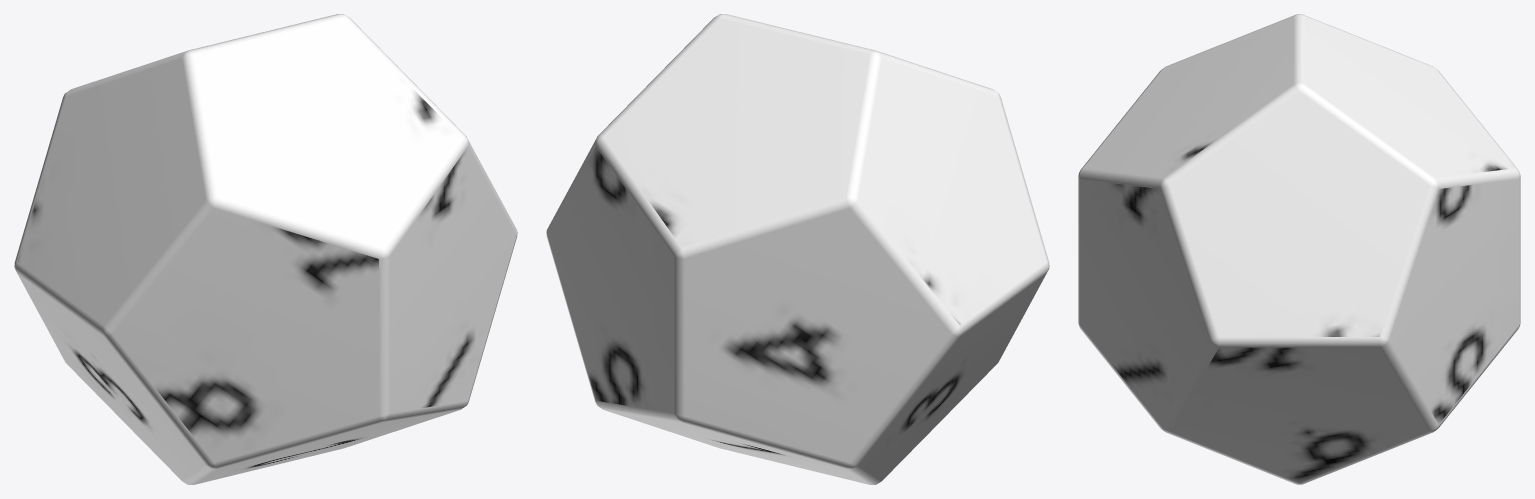
3 views of the same model, side by side, from view 1: azimuth 30°, elevation 25°; view 2: azimuth 150°, elevation 25°; view 3: azimuth 270°, elevation 25° (orthographic). The views are drawn at different scales.
Parts seen in each view (by area): view 1: D12; view 2: D12; view 3: D12.
Part boxes in pixels (x1,y1,x2,y2): D12: [14, 14, 517, 484]; D12: [546, 14, 1049, 484]; D12: [1078, 14, 1520, 484].
Size of the model in its own units: 1.62 by 1.62 by 1.62.
1 material, 1 textured.
